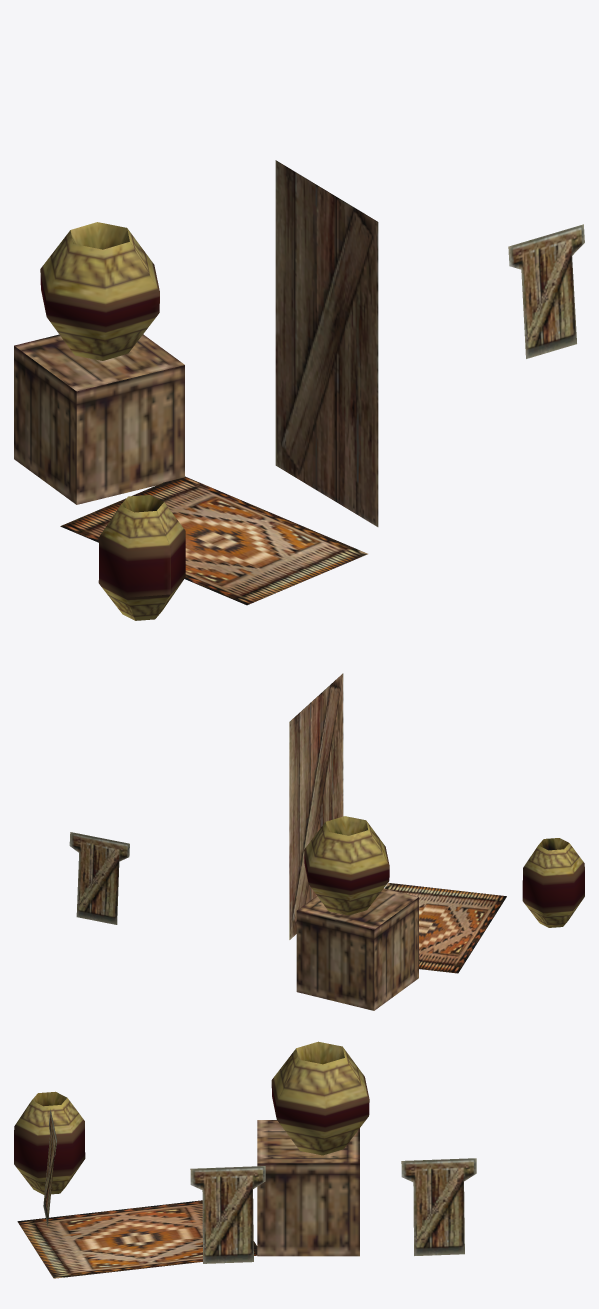
The model's file is iber_house_c_1.glb.
3 renders of one model, top to bottom at view 1: azimuth 30°, elevation 25°; view 2: azimuth 150°, elevation 25°; view 3: azimuth 270°, elevation 25°, orthographic. The views are drawn at different scales.
Visible parts, largest first — view 1: GeoSphere04; view 2: GeoSphere04; view 3: GeoSphere04.
Boxes of the visible parts, x1,y1,x2,y2 form: GeoSphere04: [14, 160, 584, 620]; GeoSphere04: [69, 673, 584, 1010]; GeoSphere04: [14, 1041, 476, 1278].
Size of the model in its own units: 7.75 by 4.04 by 8.35.
Materials: 1 (1 with a texture image).
